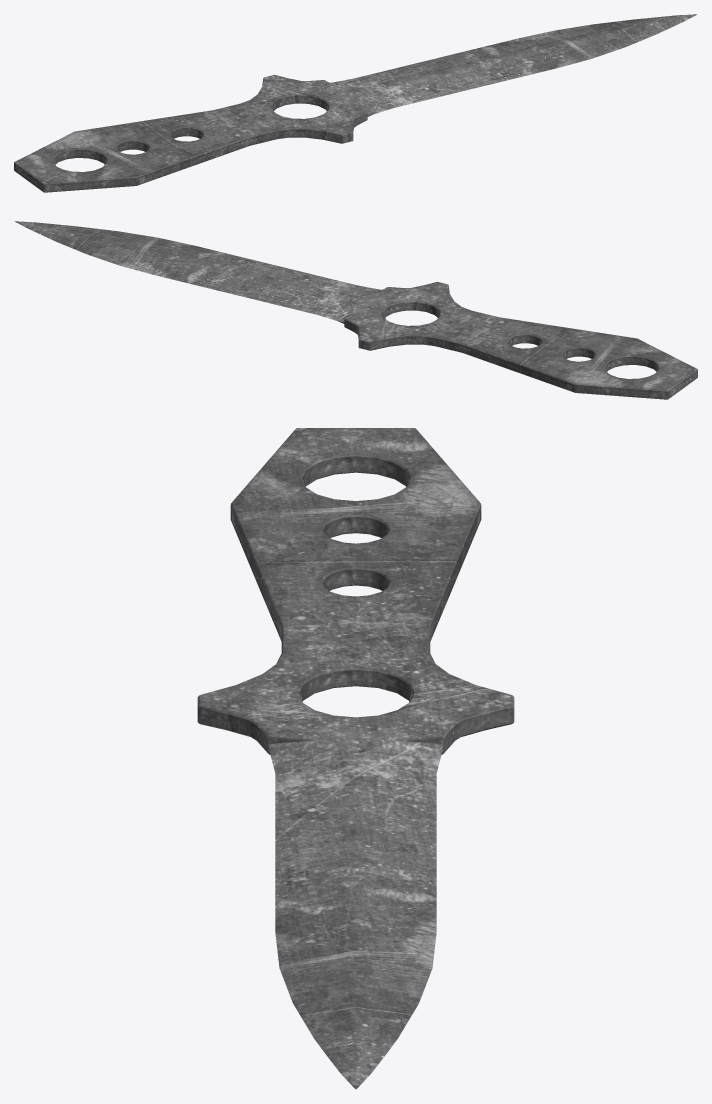
File: throwing_knife.fbx
3 views of the same model, one above another, from view 1: azimuth 30°, elevation 25°; view 2: azimuth 150°, elevation 25°; view 3: azimuth 270°, elevation 25° (orthographic). The views are drawn at different scales.
Parts seen in each view (by area): view 1: ThrowingKnife_HP; view 2: ThrowingKnife_HP; view 3: ThrowingKnife_HP.
Boxes of the visible parts, left/top/right/bottom form: ThrowingKnife_HP: left=14, top=14, right=696, bottom=192; ThrowingKnife_HP: left=15, top=221, right=697, bottom=399; ThrowingKnife_HP: left=197, top=428, right=514, bottom=1089.
Size of the model in its own units: 23.07 by 0.3047 by 4.73.
